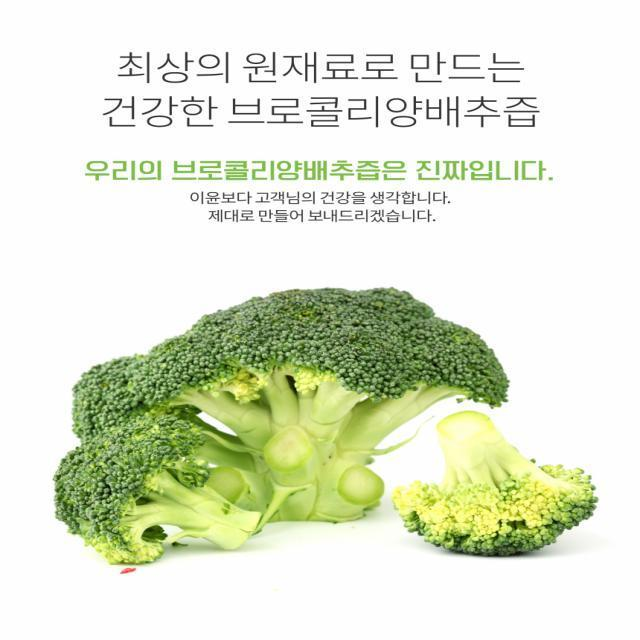broccoli: (61, 287, 526, 532), (391, 407, 605, 558), (54, 422, 260, 564)
